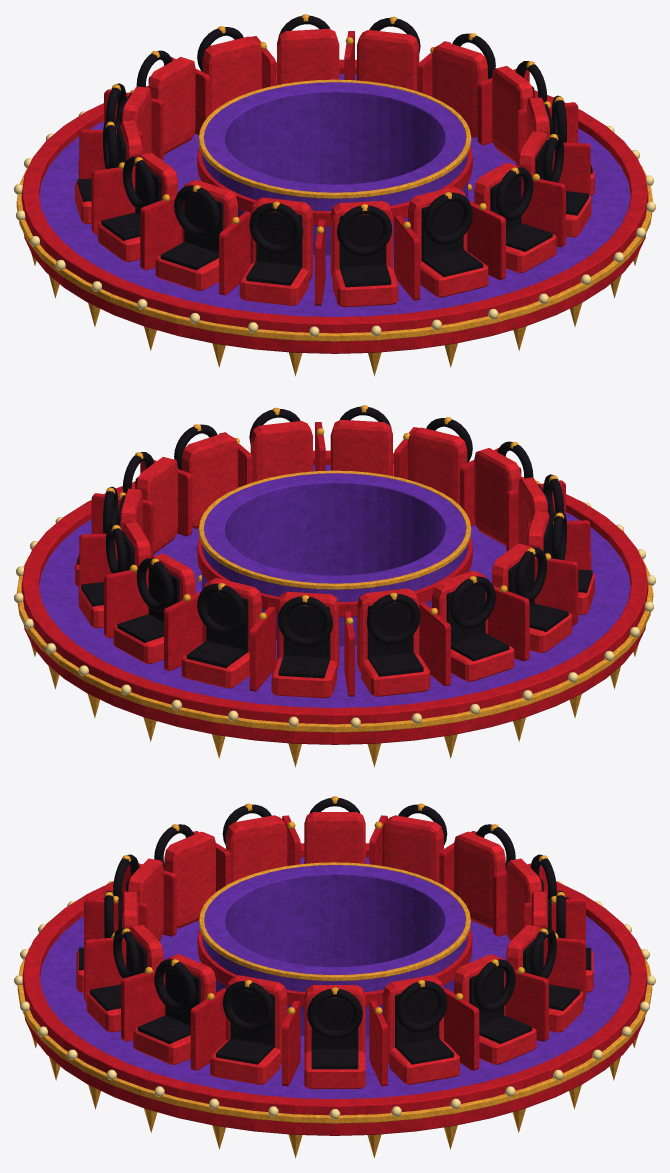
Rendered from GD_Ring.fbx.
3 renders of one model, top to bottom at view 1: azimuth 30°, elevation 25°; view 2: azimuth 150°, elevation 25°; view 3: azimuth 270°, elevation 25°, orthographic.
Parts seen in each view (by area): view 1: GD_Ring; view 2: GD_Ring; view 3: GD_Ring.
Boxes of the visible parts, x1,y1,x2,y2 form: GD_Ring: (14, 14, 655, 376); GD_Ring: (14, 405, 655, 767); GD_Ring: (14, 796, 655, 1157).
Size of the model in its own units: 15.2 by 3.66 by 15.21.
